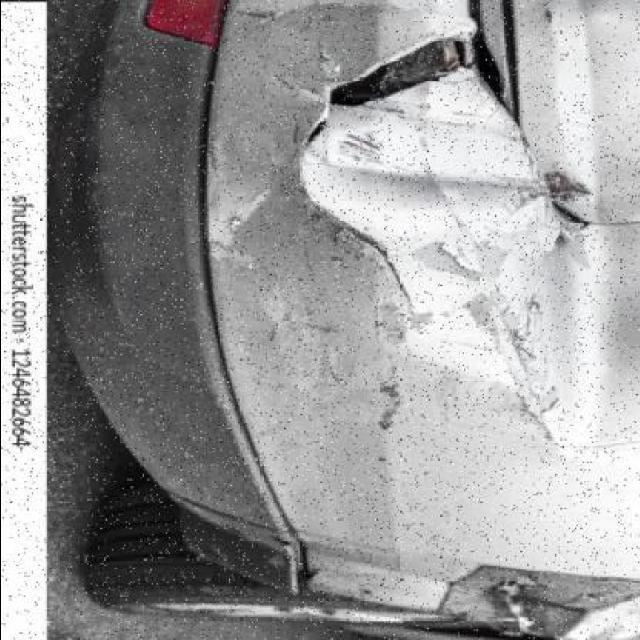rear-bumper-dent: (61, 1, 480, 565)
